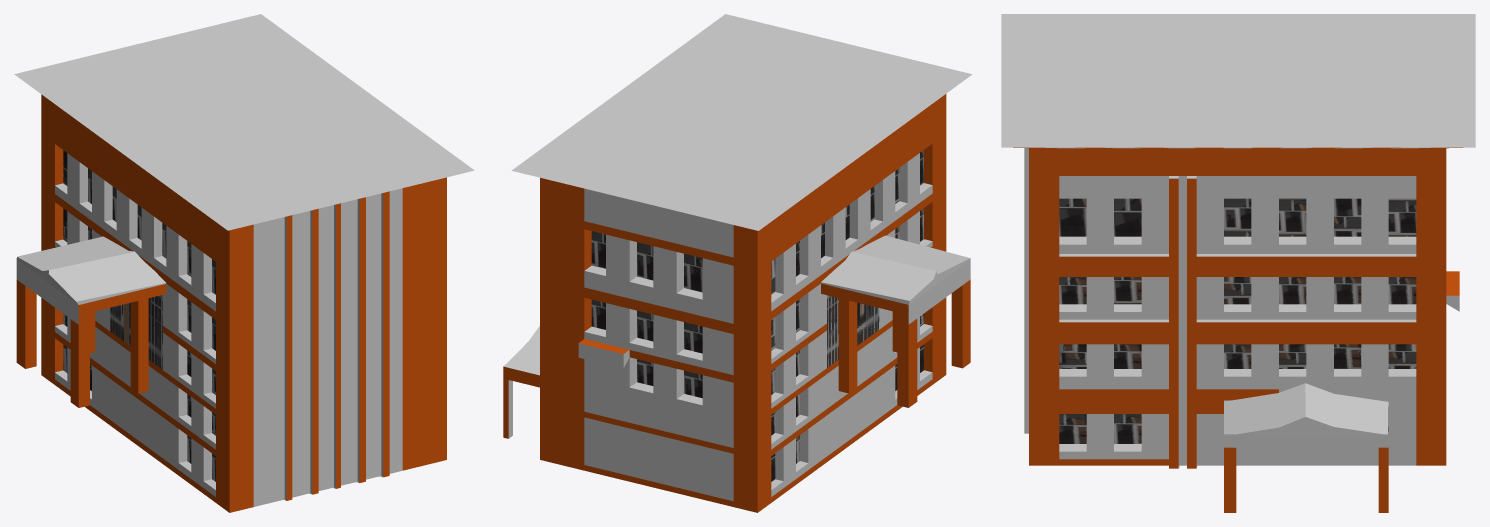
File: ecefinal.fbx
3 views of the same model, side by side, from view 1: azimuth 30°, elevation 25°; view 2: azimuth 150°, elevation 25°; view 3: azimuth 270°, elevation 25° (orthographic). The views are drawn at different scales.
Parts seen in each view (by area): view 1: Cube; view 2: Cube; view 3: Cube.
Part boxes in pixels (x1=…): Cube: x1=14, y1=14, x2=474, y2=512; Cube: x1=503, y1=14, x2=971, y2=512; Cube: x1=1001, y1=14, x2=1475, y2=512.
Size of the model in its own units: 2716 by 2156 by 2725.
6 materials, 2 textured.
